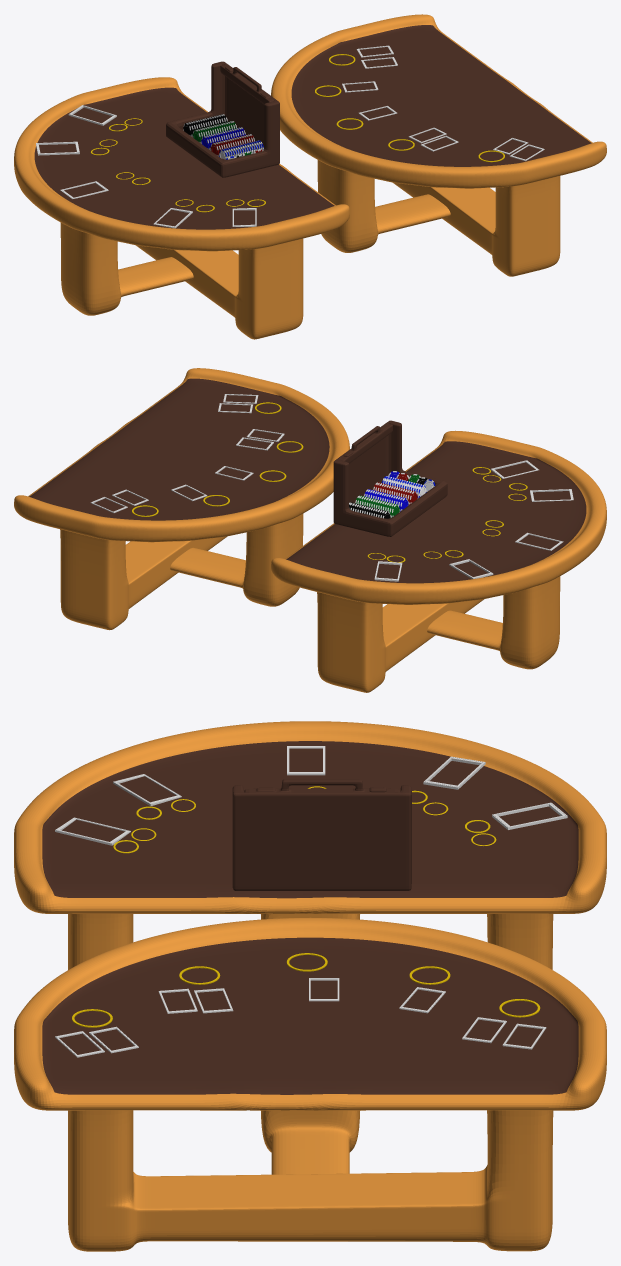
Rendered from Casino_Tables_Retextured.fbx.
The picture shows the model from 3 angles, top to bottom: view 1: azimuth 30°, elevation 25°; view 2: azimuth 150°, elevation 25°; view 3: azimuth 270°, elevation 25°; orthographic projection. The views are drawn at different scales.
Visible parts, largest first — view 1: Cylinder.031, Cylinder.013, Cube.068; view 2: Cylinder.031, Cylinder.013, Cube.068; view 3: Cylinder.031, Cylinder.013, Cube.068.
Part boxes in pixels (<box>): Cylinder.031: <box>271,14,606,276</box>; Cylinder.013: <box>14,77,349,339</box>; Cube.068: <box>166,61,279,177</box>; Cylinder.031: <box>14,368,349,630</box>; Cylinder.013: <box>271,430,606,692</box>; Cube.068: <box>333,420,447,536</box>; Cylinder.031: <box>14,917,606,1251</box>; Cylinder.013: <box>14,721,606,969</box>; Cube.068: <box>232,779,411,890</box>.
Bounding box in the file's own units: 41684 × 15767 × 28382.
